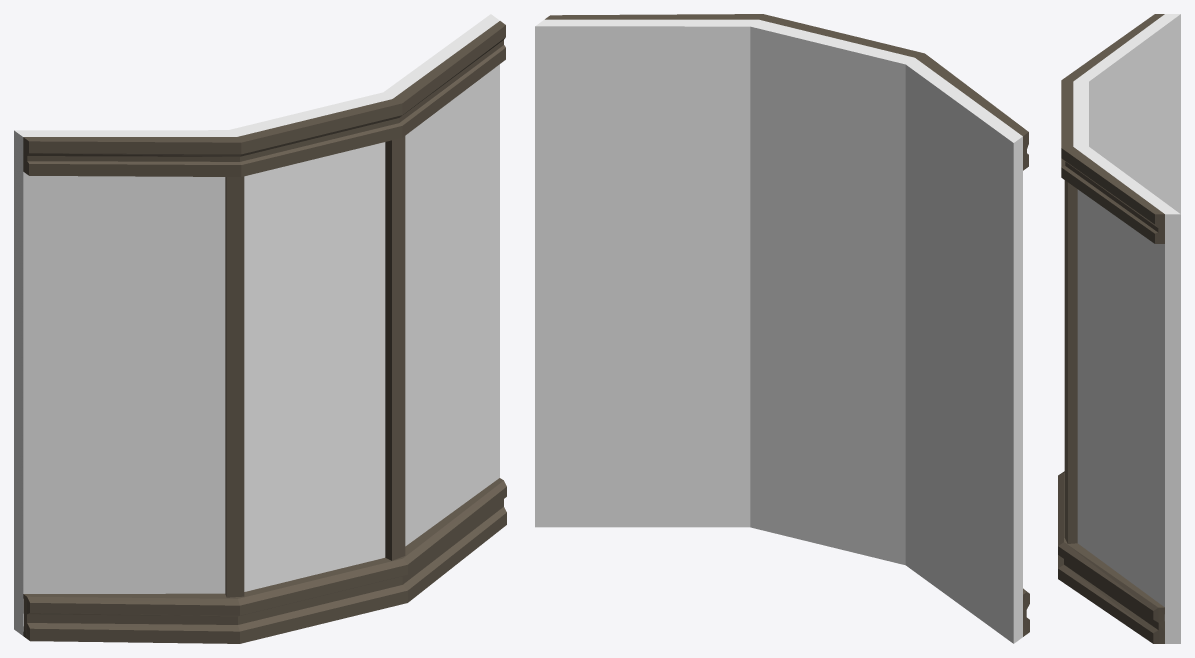
Rendered from WINDOW_01_Balkon_1.glb.
3 renders of one model, left to right at view 1: azimuth 30°, elevation 25°; view 2: azimuth 150°, elevation 25°; view 3: azimuth 270°, elevation 25°, orthographic. The views are drawn at different scales.
Parts seen in each view (by area): view 1: WINDOW_01_Balkon_1; view 2: WINDOW_01_Balkon_1; view 3: WINDOW_01_Balkon_1.
Boxes of the visible parts, x1=… form: WINDOW_01_Balkon_1: x1=14, y1=14, x2=506, y2=643; WINDOW_01_Balkon_1: x1=535, y1=14, x2=1029, y2=643; WINDOW_01_Balkon_1: x1=1058, y1=14, x2=1180, y2=643.
Size of the model in its own units: 3 by 3 by 0.7777.
Materials: 1 (1 with a texture image).
